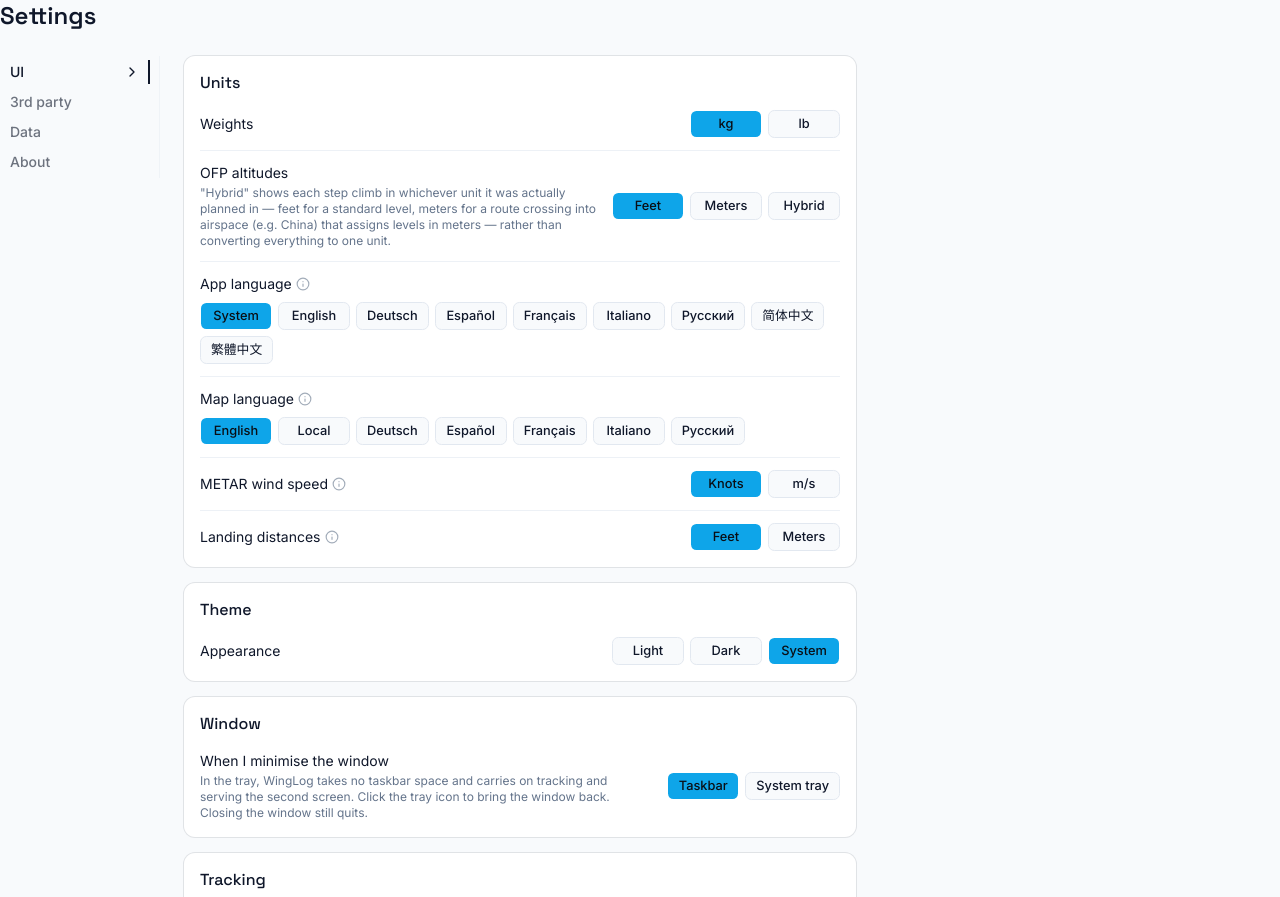
Scenario: SettingsView › unit and theme settings › keeps most unit rows' explanations out of sight until their info button is clicked
Click the button named "More info about App language" at (303, 284), box [296,277,310,291]
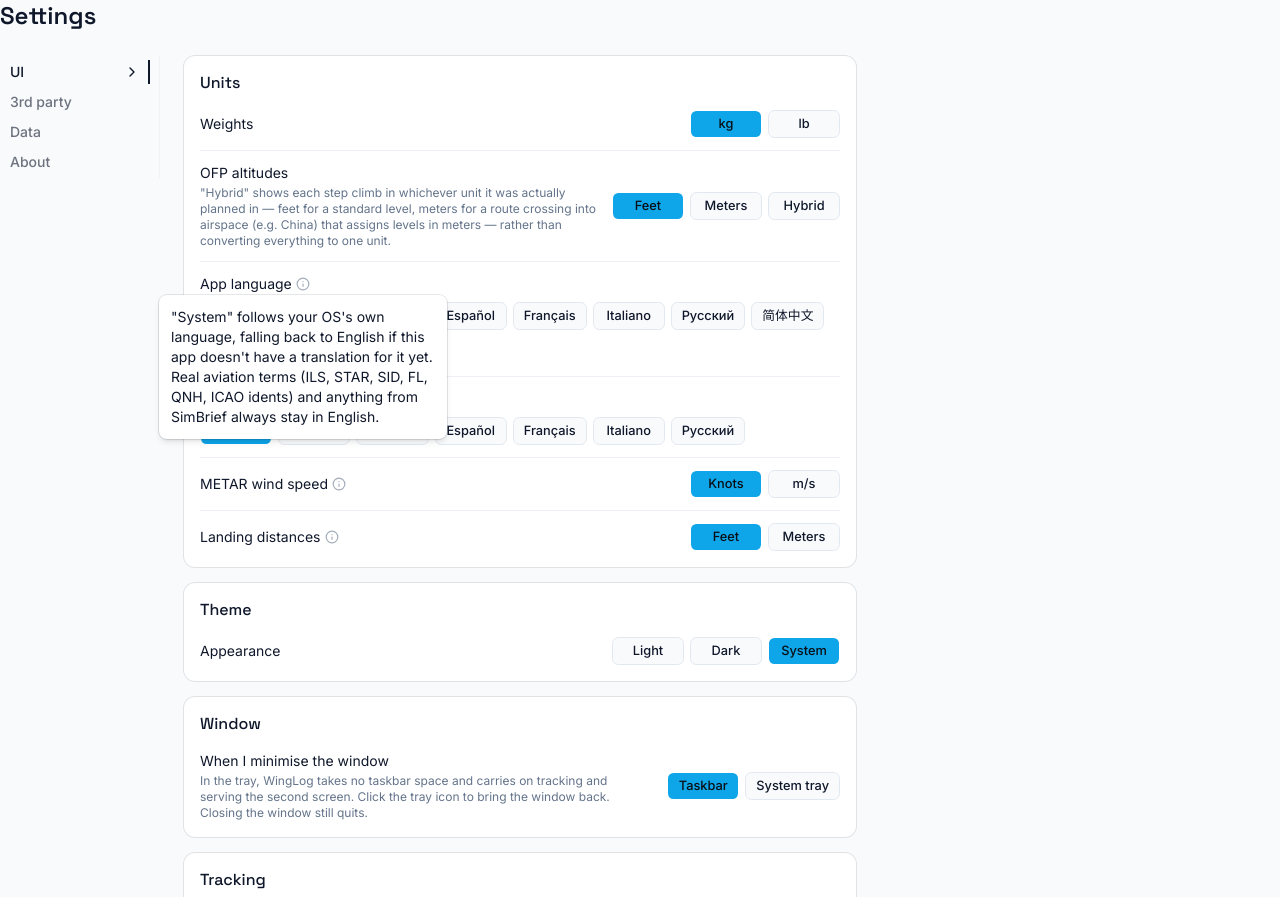
Result: the text "falling back to English if this app doesn't have a translation" is shown at [171,308,433,425]
